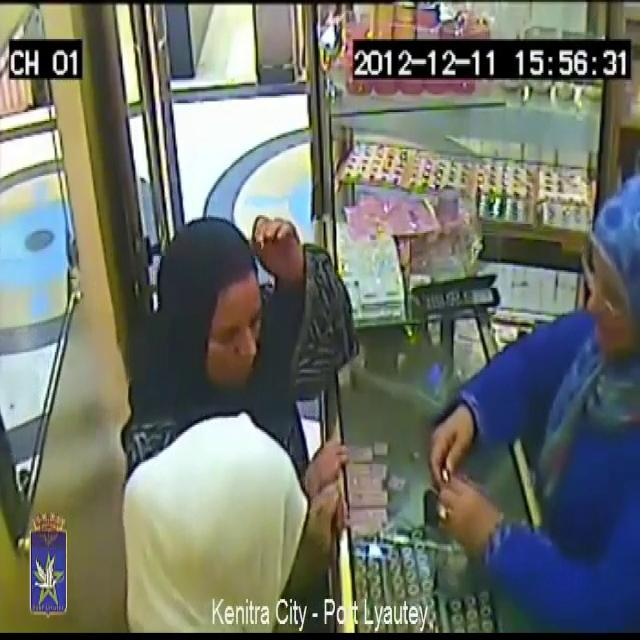Product: (437, 447, 453, 493)
normal: (136, 364, 354, 640), (157, 189, 274, 406)
shoplifting: (392, 160, 640, 628)
